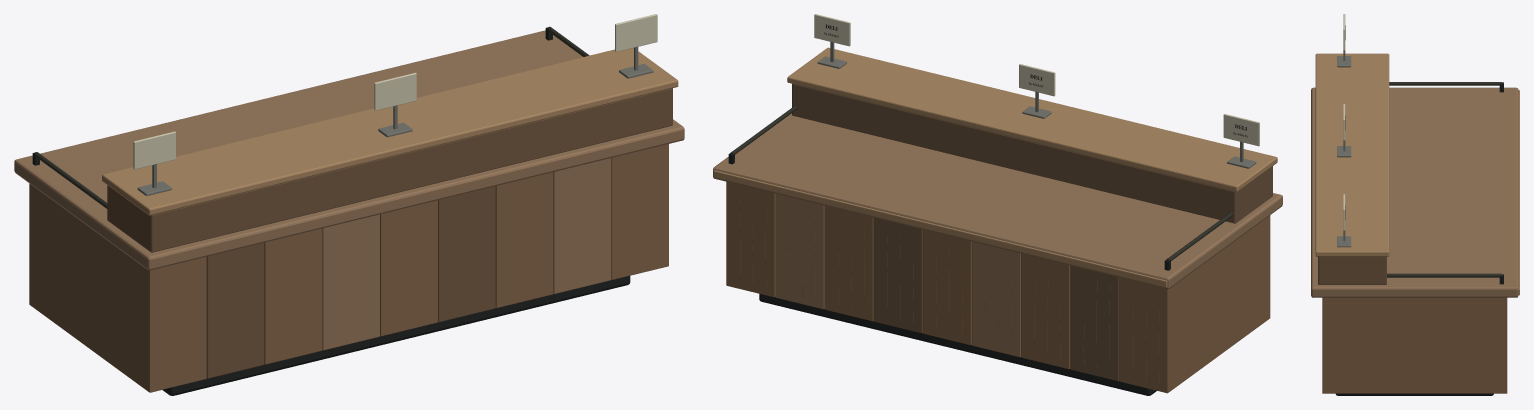
File: island.glb
The picture shows the model from 3 angles, left to right: view 1: azimuth 30°, elevation 25°; view 2: azimuth 150°, elevation 25°; view 3: azimuth 270°, elevation 25°; orthographic projection. The views are drawn at different scales.
Visible parts, largest first — view 1: DeliIsland; view 2: DeliIsland; view 3: DeliIsland.
Boxes of the visible parts, x1,y1,x2,y2 form: DeliIsland: [14, 14, 684, 395]; DeliIsland: [713, 14, 1282, 395]; DeliIsland: [1311, 14, 1519, 395].
Size of the model in its own units: 2.9 by 1.34 by 1.27.
